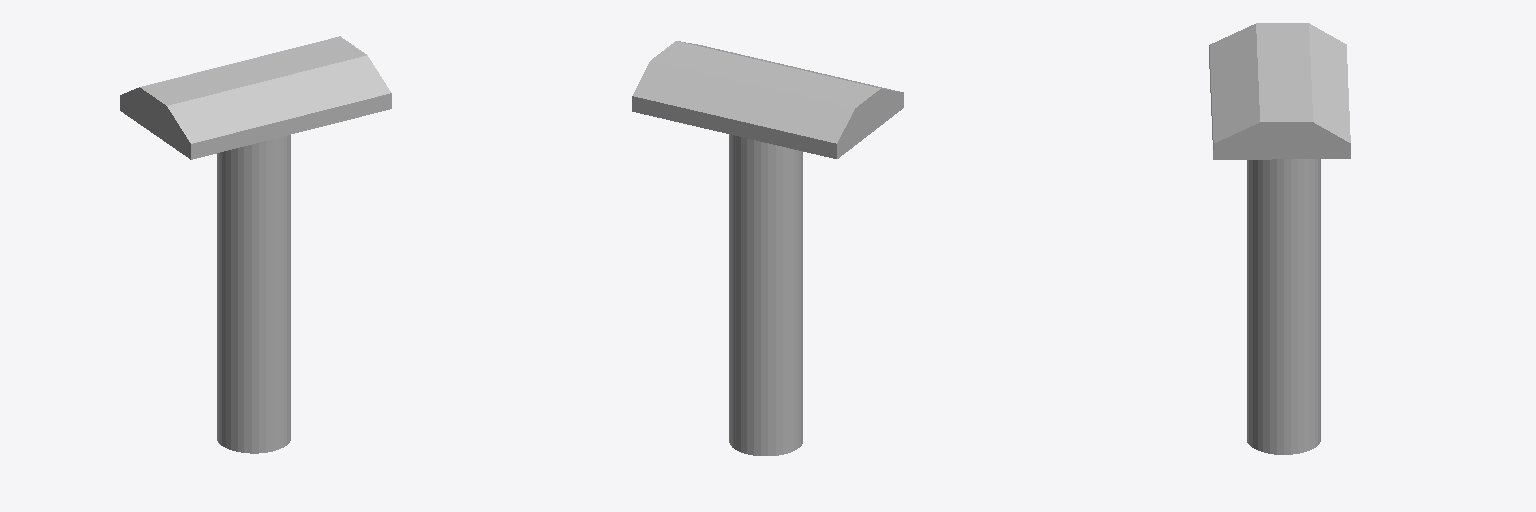
Rendered from blade.obj.
The picture shows the model from 3 angles: view 1: azimuth 30°, elevation 25°; view 2: azimuth 150°, elevation 25°; view 3: azimuth 270°, elevation 25°; orthographic projection.
Parts seen in each view (by area): view 1: Cylinder, Cube_Cube.001; view 2: Cylinder, Cube_Cube.001; view 3: Cylinder, Cube_Cube.001.
Boxes of the visible parts, <box> form: Cylinder: <box>217,135,290,453</box>; Cube_Cube.001: <box>120,36,391,159</box>; Cylinder: <box>729,134,802,455</box>; Cube_Cube.001: <box>632,41,903,158</box>; Cylinder: <box>1247,159,1320,454</box>; Cube_Cube.001: <box>1209,23,1350,159</box>.
Size of the model in its own units: 1.27 by 2.17 by 0.7601.